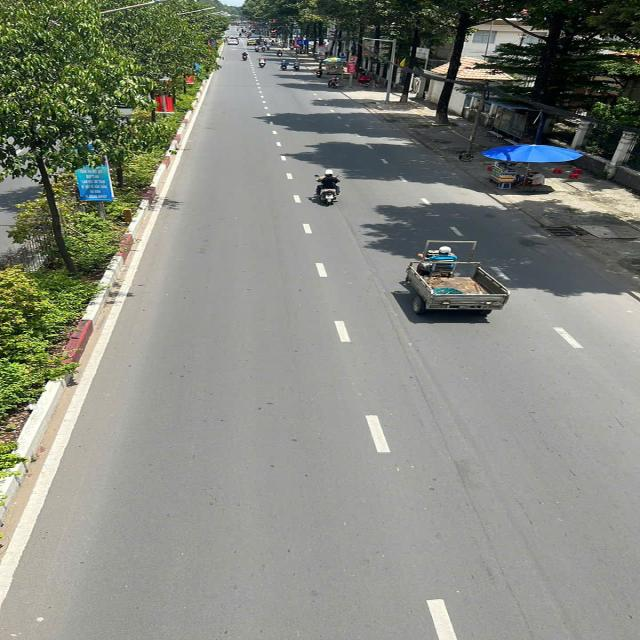car: (245, 36, 258, 47), (226, 36, 240, 46)
motobyte: (306, 164, 349, 208), (254, 55, 270, 71), (327, 74, 342, 89), (277, 56, 289, 72), (239, 49, 251, 64), (292, 57, 302, 72), (314, 64, 324, 79), (275, 47, 285, 58), (266, 42, 272, 52)
